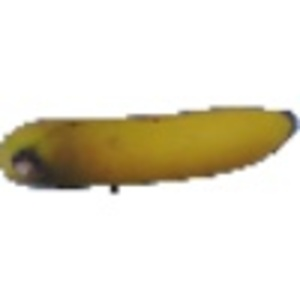banana: (3, 98, 295, 192)
